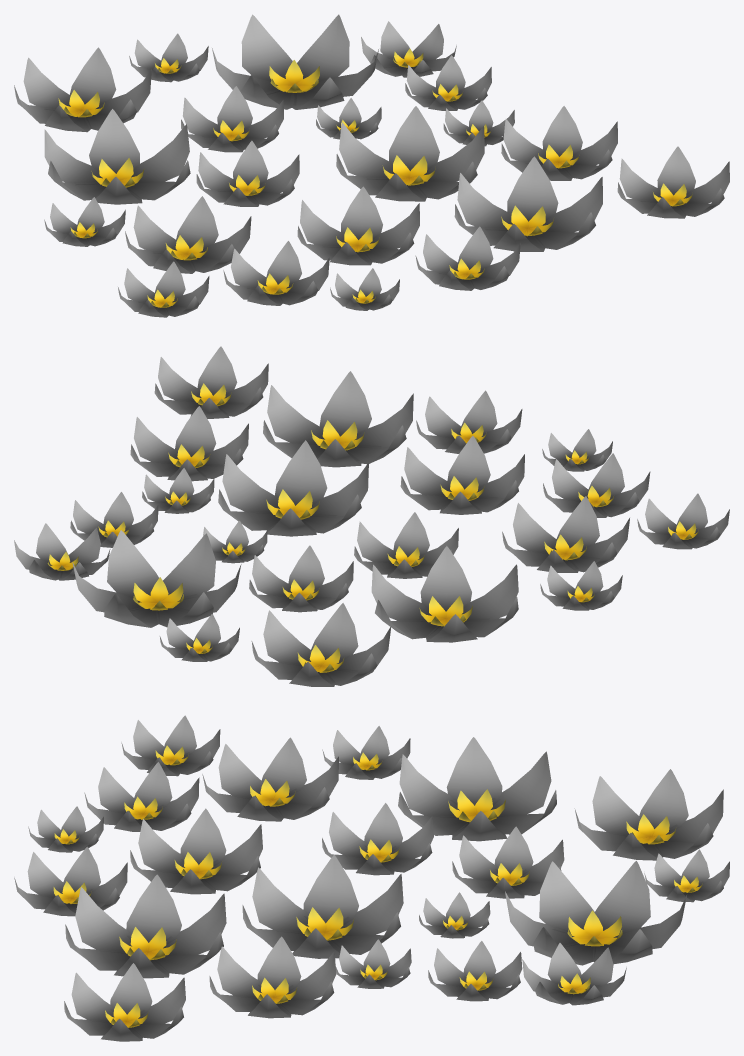
The model's file is flowers2Circle_013.fbx.
3 renders of one model, top to bottom at view 1: azimuth 30°, elevation 25°; view 2: azimuth 150°, elevation 25°; view 3: azimuth 270°, elevation 25°, orthographic. The views are drawn at different scales.
Visible parts, largest first — view 1: Circle.013; view 2: Circle.013; view 3: Circle.013.
Part boxes in pixels (x1=…): Circle.013: x1=14, y1=14, x2=729, y2=317; Circle.013: x1=14, y1=346, x2=729, y2=686; Circle.013: x1=14, y1=715, x2=729, y2=1041.
Size of the model in its own units: 94.21 by 6.71 by 92.34.
